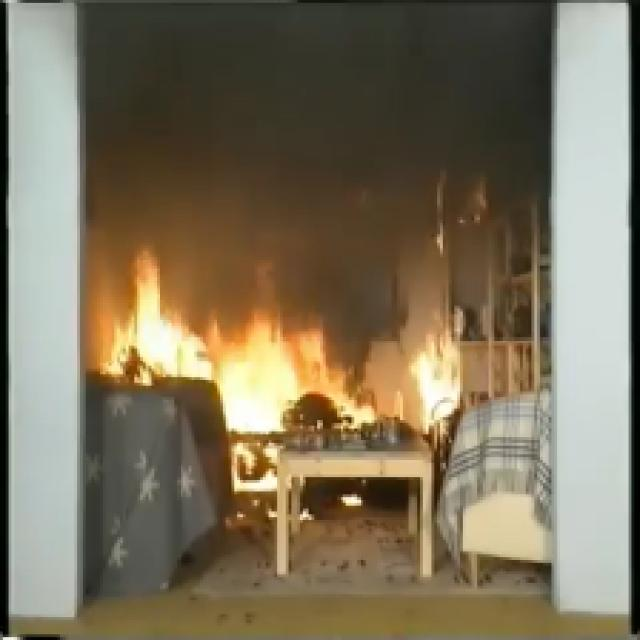fire: (111, 255, 362, 434)
